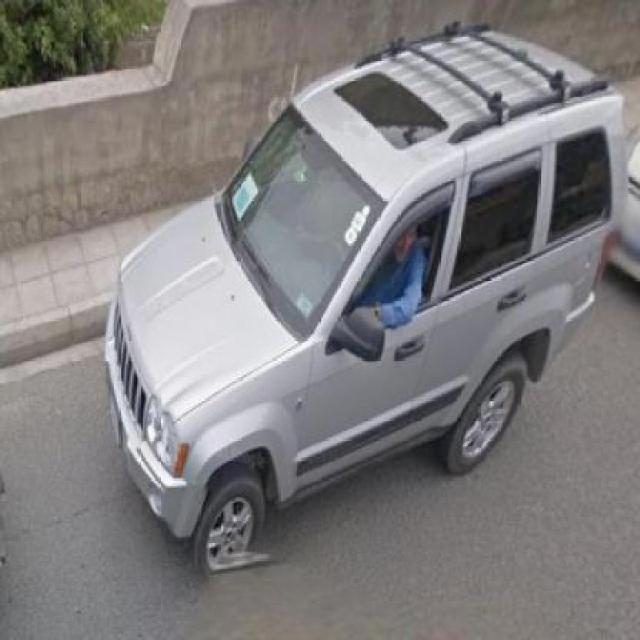car: (109, 31, 620, 568)
